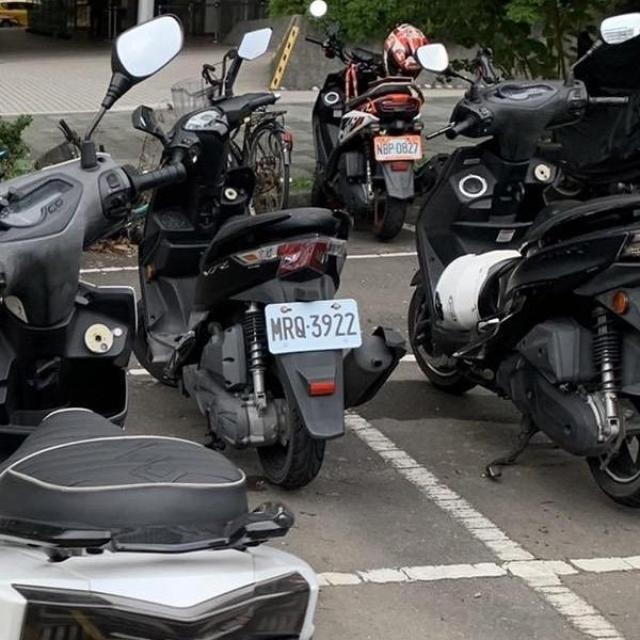W: (258, 292, 375, 358), (368, 130, 428, 167)
